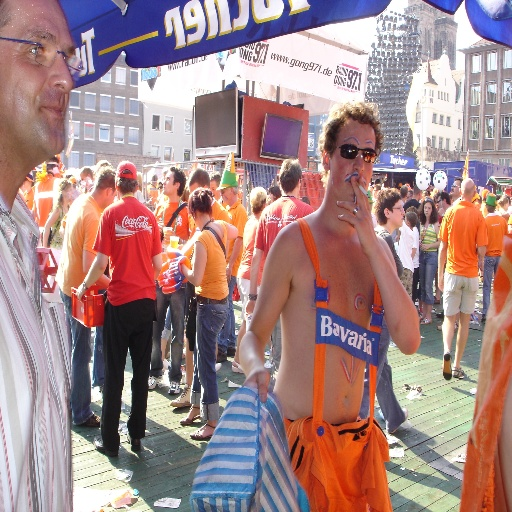hand: (336, 173, 377, 254), (237, 330, 274, 402), (74, 282, 85, 301), (244, 299, 255, 317), (163, 228, 175, 244), (225, 262, 232, 281), (436, 207, 446, 217), (158, 221, 165, 232), (145, 195, 152, 205), (419, 242, 429, 249), (418, 237, 421, 245)
